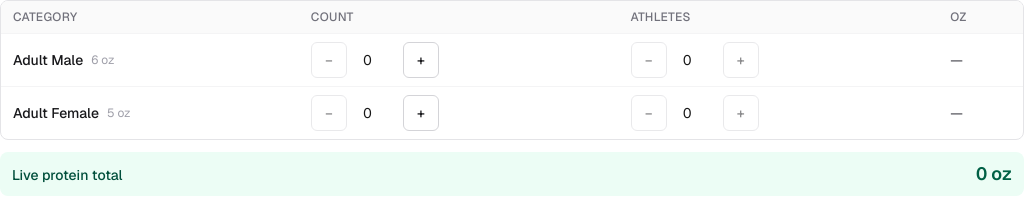
Scenario: PortionGrid › updates live protein total when counts change
Expected: the element with test id "portion-total" reads "0 oz", [976,162,1012,185]
Click the button named "Increase Adult Male count": (421, 60) [403,42,439,78]
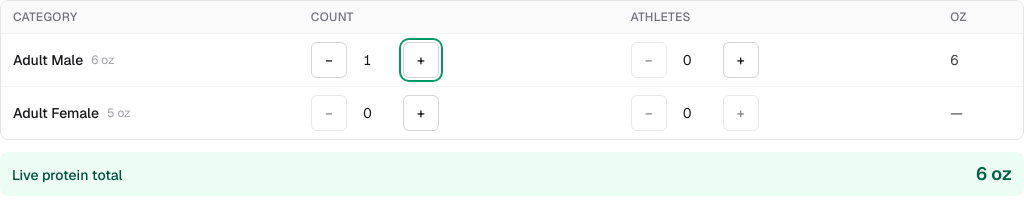
Click the button named "Increase Adult Male count": (421, 60) [403,42,439,78]
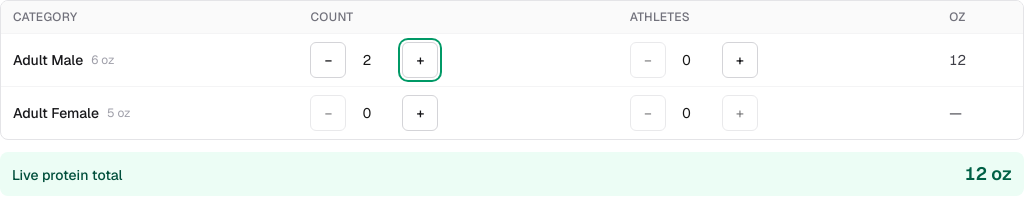
Now the element with test id "portion-total" reads "12 oz", box [965,162,1012,185]
Click the button named "Increase Adult Male athlete count": (740, 60) [722,42,758,78]
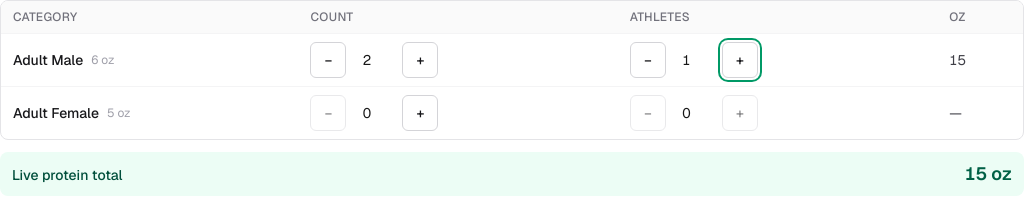
Now the element with test id "portion-total" reads "15 oz", box [965,162,1012,185]
